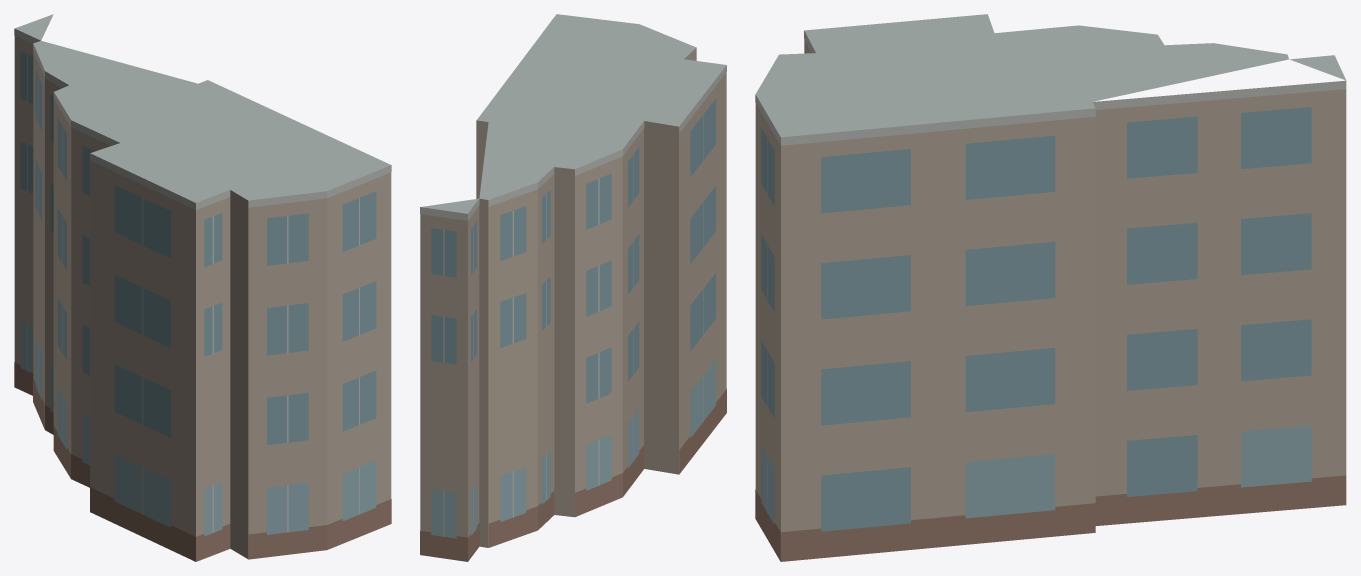
The model's file is survey-upis-32688153.glb.
The picture shows the model from 3 angles, left to right: view 1: azimuth 30°, elevation 25°; view 2: azimuth 150°, elevation 25°; view 3: azimuth 270°, elevation 25°; orthographic projection. The views are drawn at different scales.
Parts seen in each view (by area): view 1: survey-upis-32688153.tmp; view 2: survey-upis-32688153.tmp; view 3: survey-upis-32688153.tmp.
Boxes of the visible parts, x1=… form: survey-upis-32688153.tmp: x1=14, y1=14, x2=391, y2=561; survey-upis-32688153.tmp: x1=420, y1=14, x2=726, y2=561; survey-upis-32688153.tmp: x1=755, y1=14, x2=1346, y2=561.
Size of the model in its own units: 7.68 by 12.3 by 15.53.
